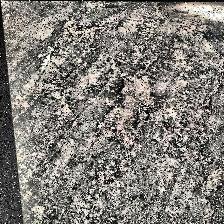pothole: (90, 74, 156, 138)
